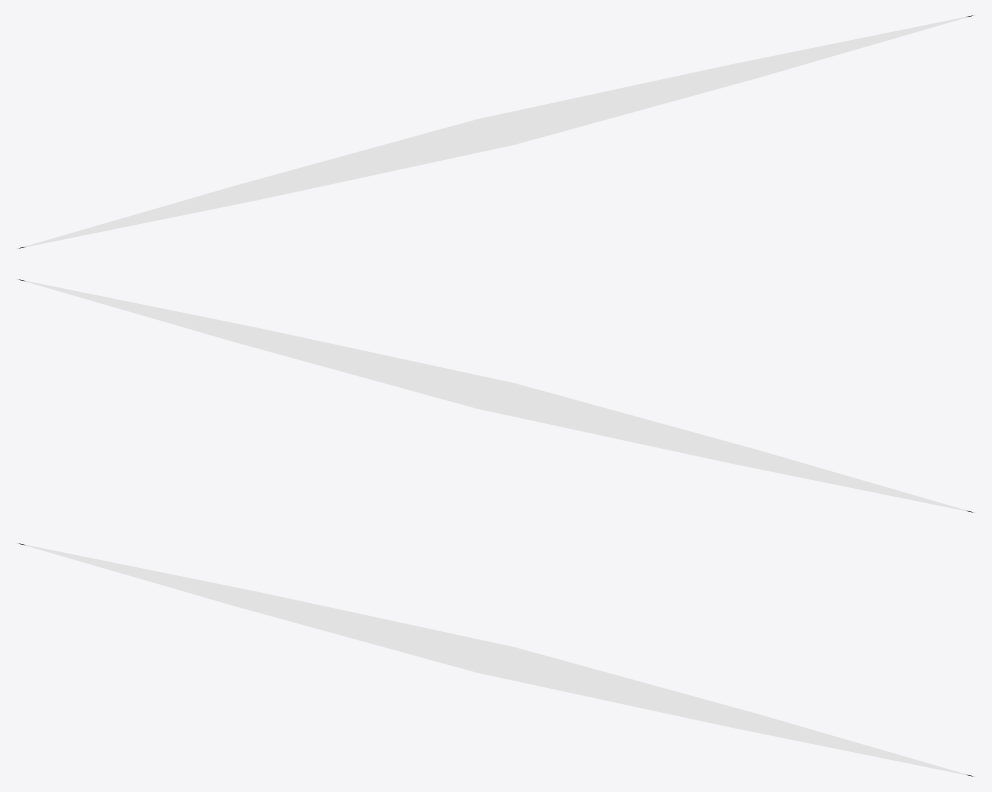
The model's file is slash.fbx.
3 renders of one model, top to bottom at view 1: azimuth 30°, elevation 25°; view 2: azimuth 150°, elevation 25°; view 3: azimuth 330°, elevation 25°, orthographic.
Parts seen in each view (by area): view 1: Slash; view 2: Slash; view 3: Slash.
Boxes of the visible parts, x1,y1,x2,y2 form: Slash: (17,15,974,248); Slash: (17,279,974,512); Slash: (17,543,974,776).
Size of the model in its own units: 827 by 6.37e-06 by 53.06.
1 material, 1 textured.
